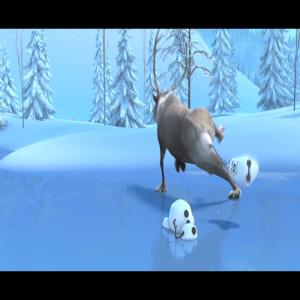olaf: (146, 192, 205, 240)
sven: (151, 76, 233, 185)
